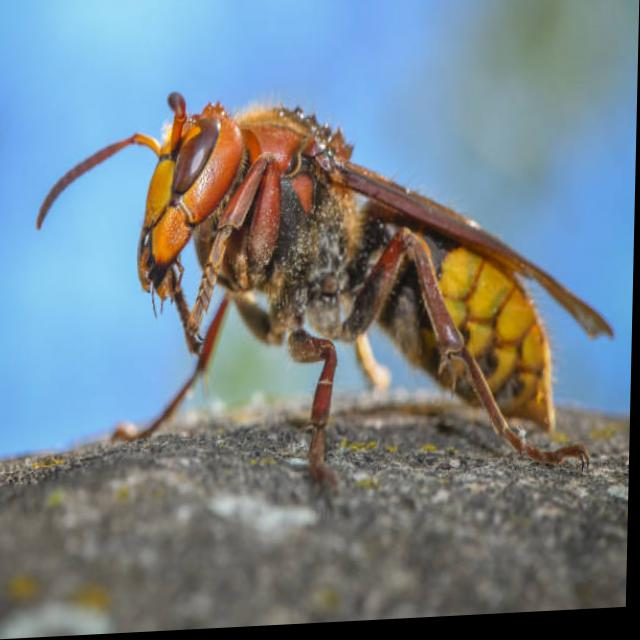Vespa Crabro: (15, 51, 627, 550)
